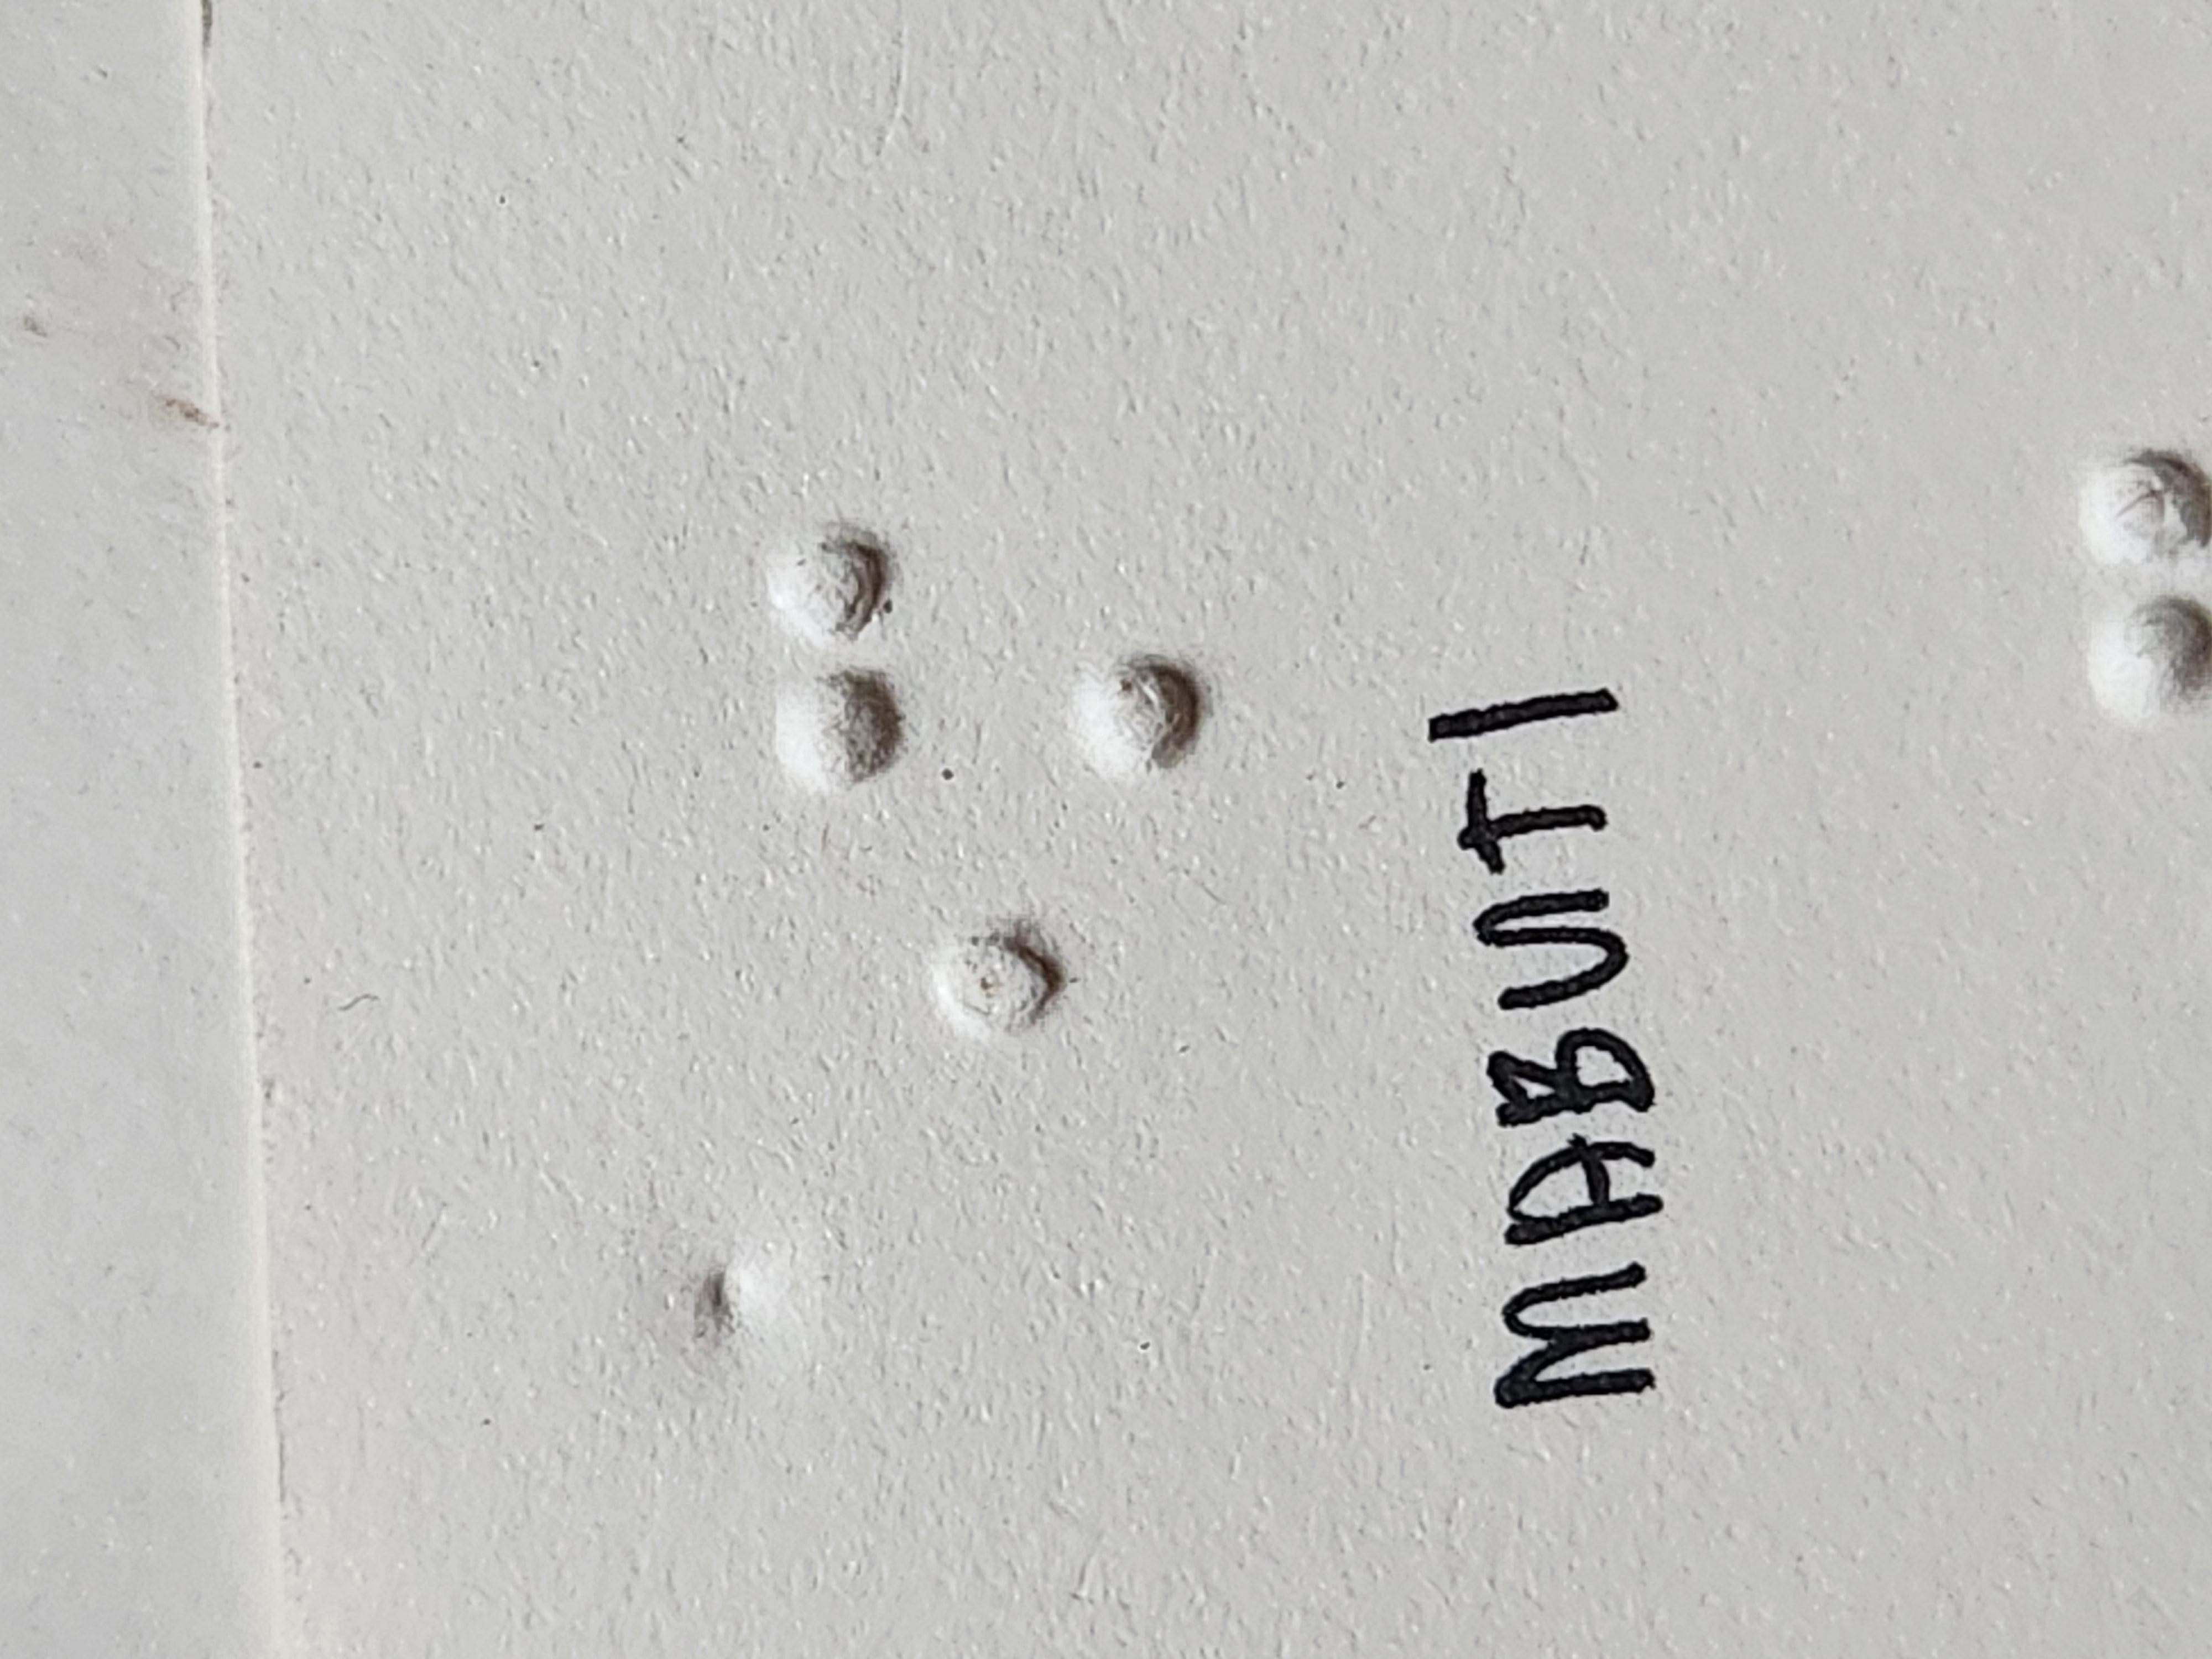dot_5: (641, 584, 991, 911)
two_cell_alphabet_mabuti: (1158, 573, 1510, 901)
